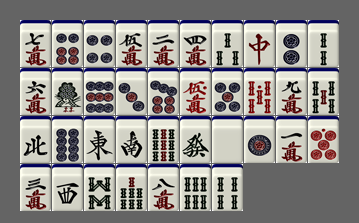0m: (180, 68, 211, 115)
0p: (308, 116, 339, 163)
0s: (244, 68, 275, 115)
1m: (276, 116, 307, 163)
1p: (244, 116, 275, 163)
1s: (52, 68, 83, 115)
1z: (84, 116, 115, 163)
2m: (148, 20, 179, 67)
2p: (276, 20, 307, 67)
2s: (308, 20, 339, 67)
2z: (116, 116, 147, 163)
3m: (20, 164, 51, 211)
3p: (116, 68, 147, 115)
3s: (212, 20, 243, 67)
3z: (52, 164, 83, 211)
4m: (180, 20, 211, 67)
4p: (84, 20, 115, 67)
4s: (212, 164, 243, 211)
4z: (20, 116, 51, 163)
5m: (116, 20, 147, 67)
5p: (212, 68, 243, 115)
5s: (308, 68, 339, 115)
5z: (212, 116, 243, 163)
6m: (20, 68, 51, 115)
6p: (52, 20, 83, 67)
6s: (180, 164, 211, 211)
6z: (180, 116, 211, 163)
7m: (20, 20, 51, 67)
7p: (148, 68, 179, 115)
7s: (116, 164, 147, 211)
7z: (244, 20, 275, 67)
8m: (148, 164, 179, 211)
8p: (52, 116, 83, 163)
8s: (84, 164, 115, 211)
9m: (276, 68, 307, 115)
9p: (84, 68, 115, 115)
9s: (148, 116, 179, 163)
